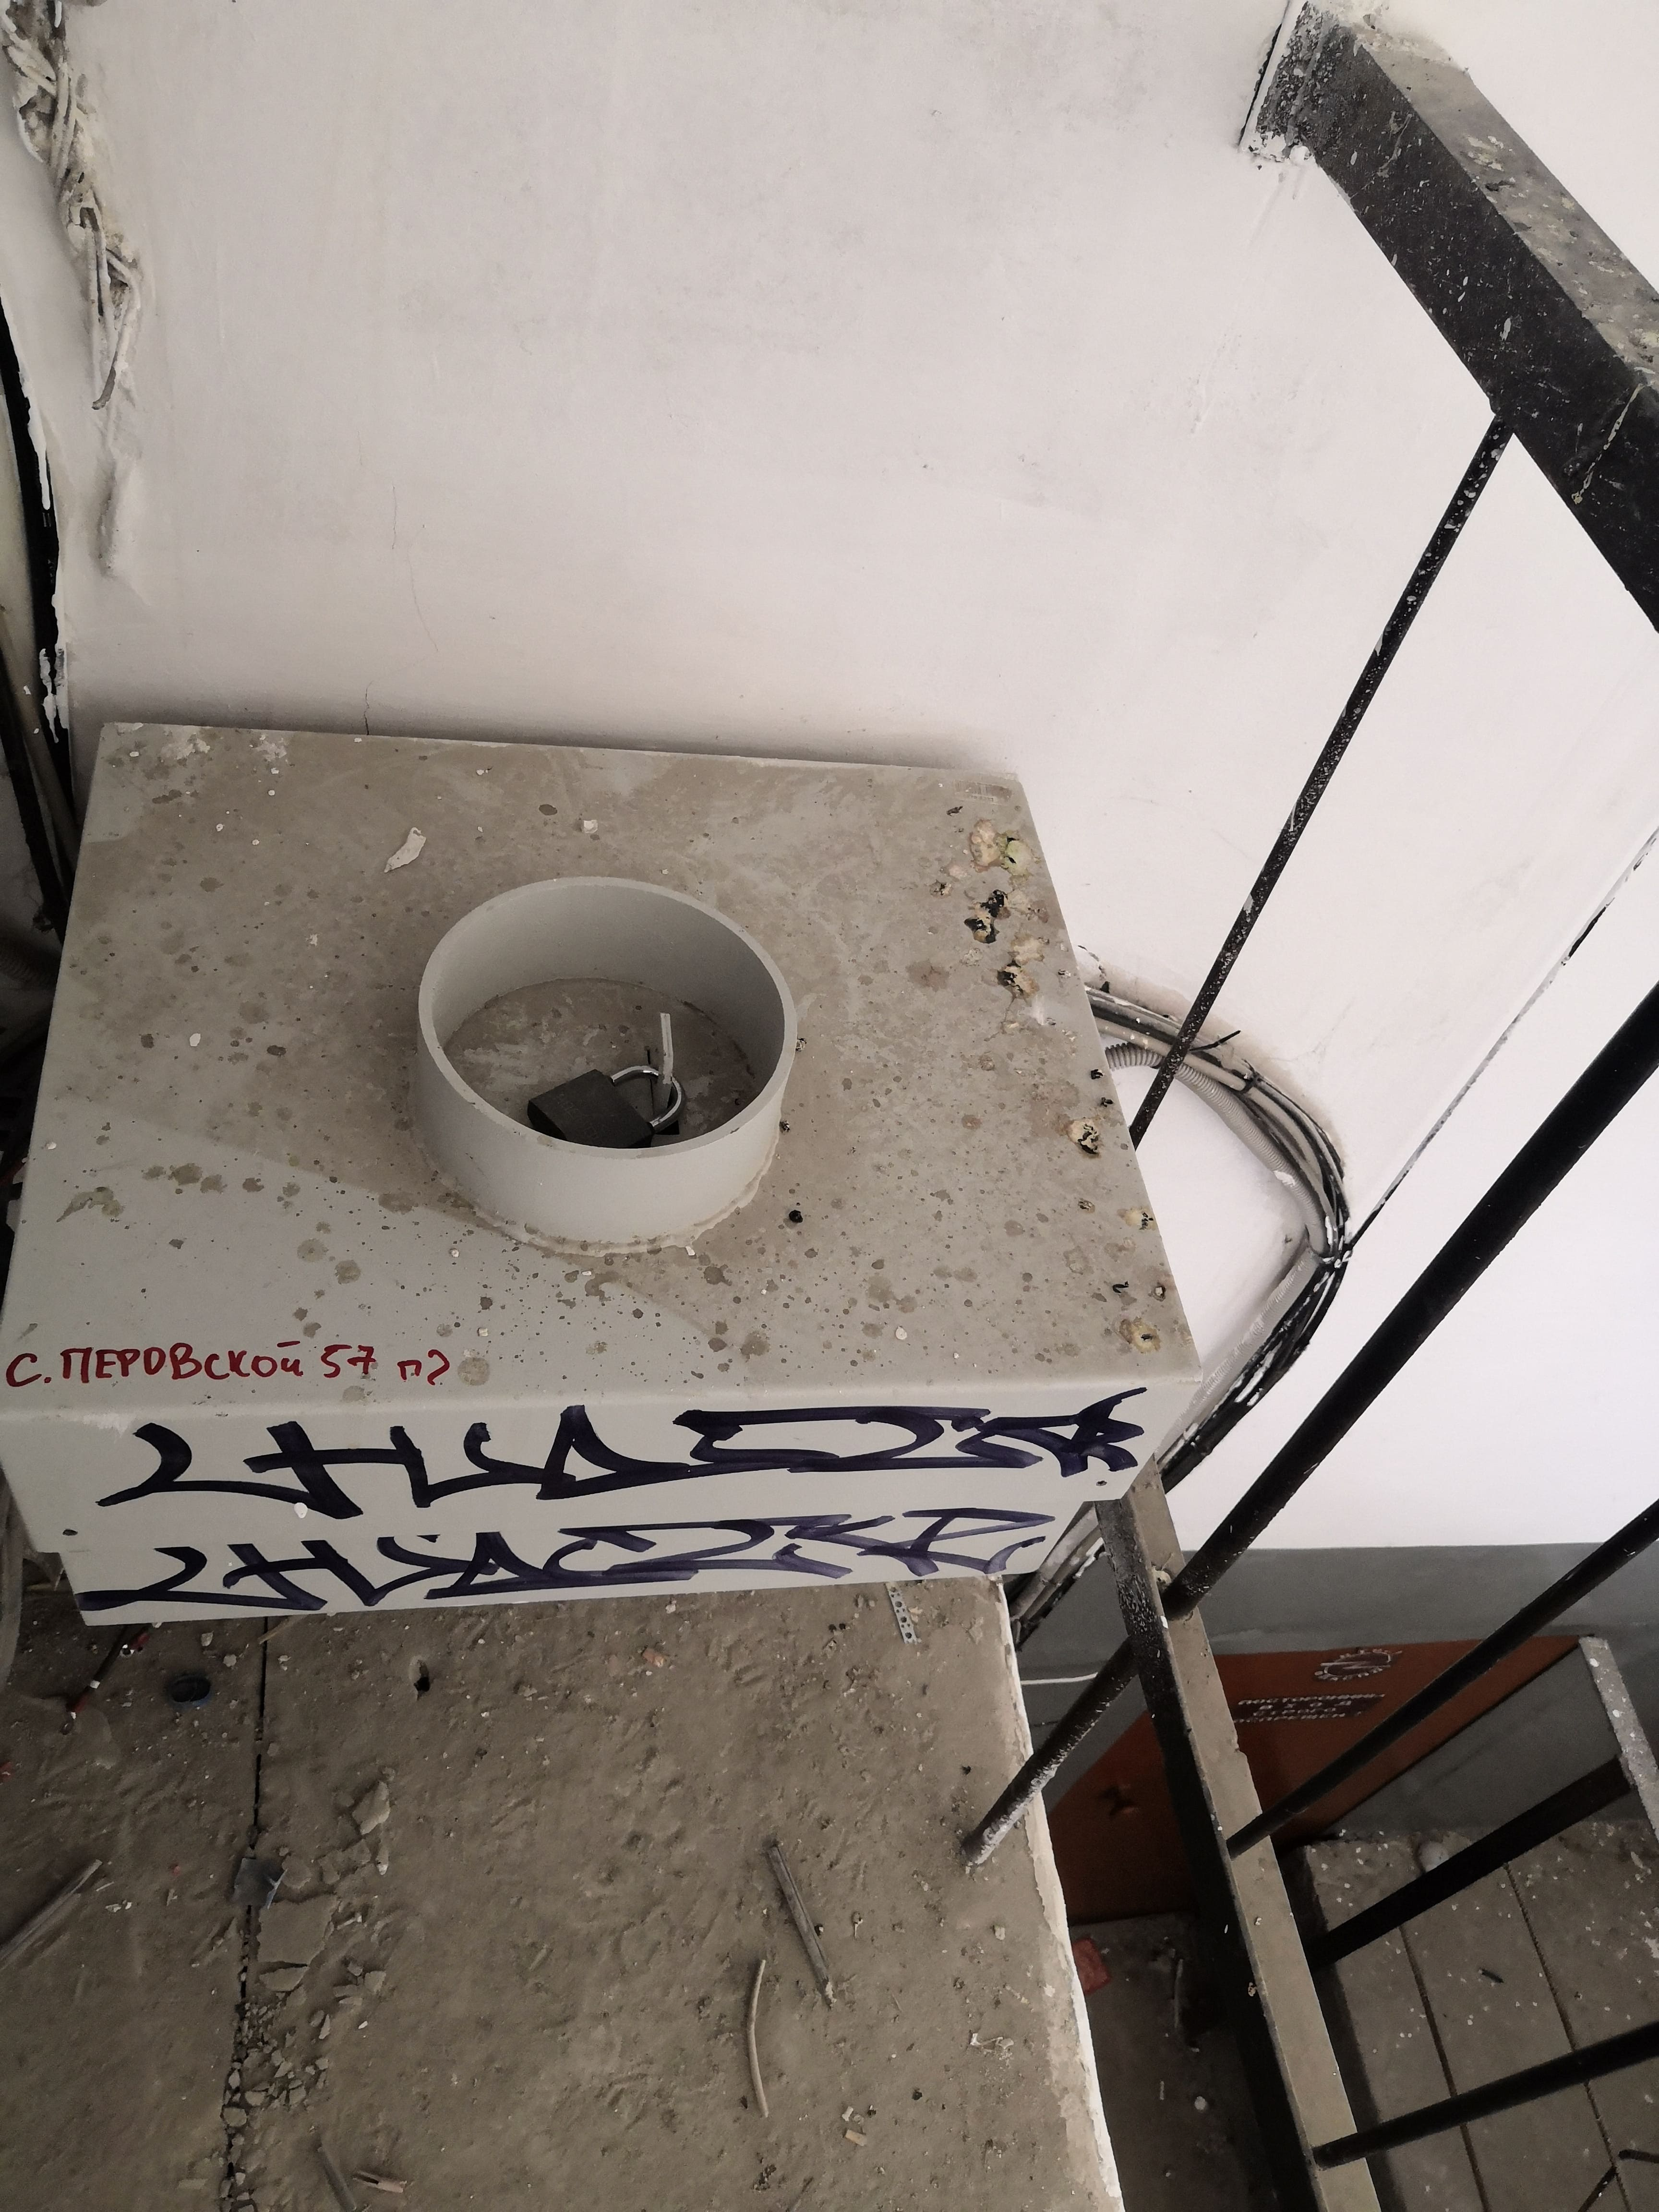shta-ps: (2, 716, 1216, 1644)
